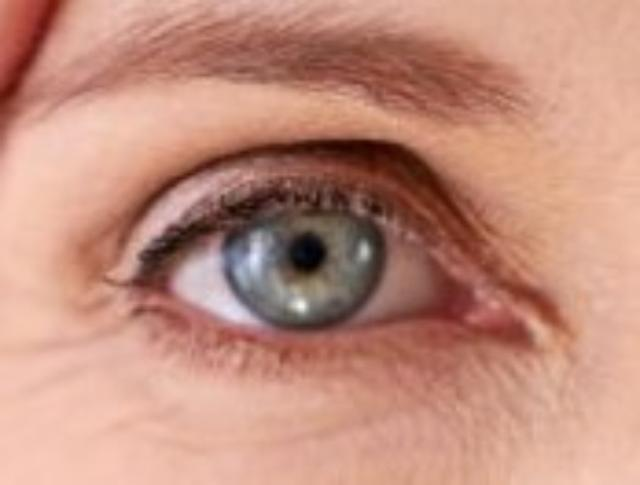eye: (215, 190, 392, 338)
